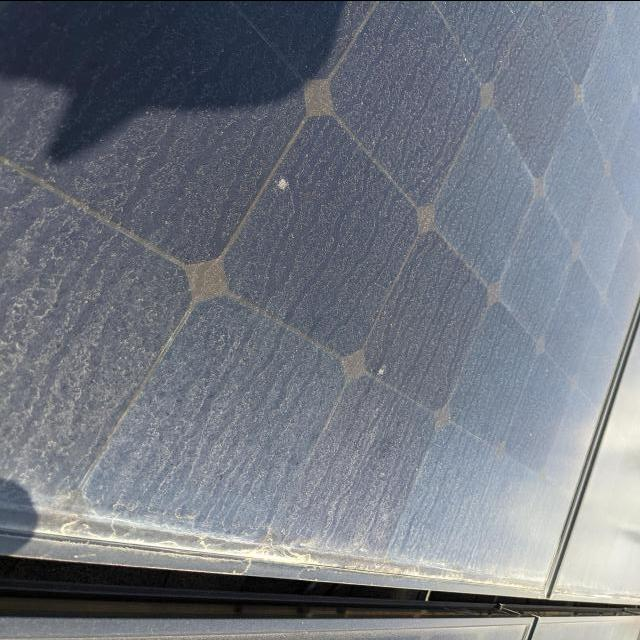soiled: (0, 2, 637, 578)
